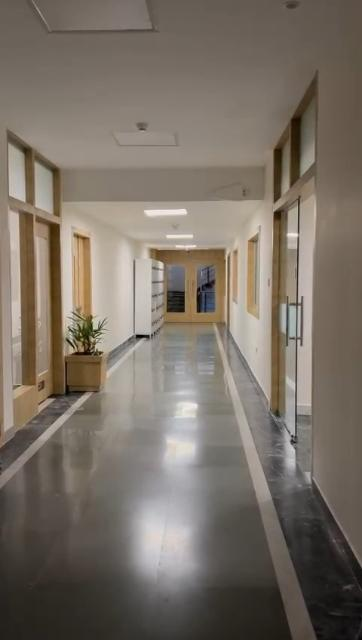door: (0, 327, 362, 640), (5, 134, 67, 410), (272, 144, 320, 472), (163, 251, 228, 329)
object: (66, 311, 106, 401)
wall: (318, 36, 362, 502), (103, 225, 134, 343), (259, 214, 269, 376), (235, 235, 244, 357)
